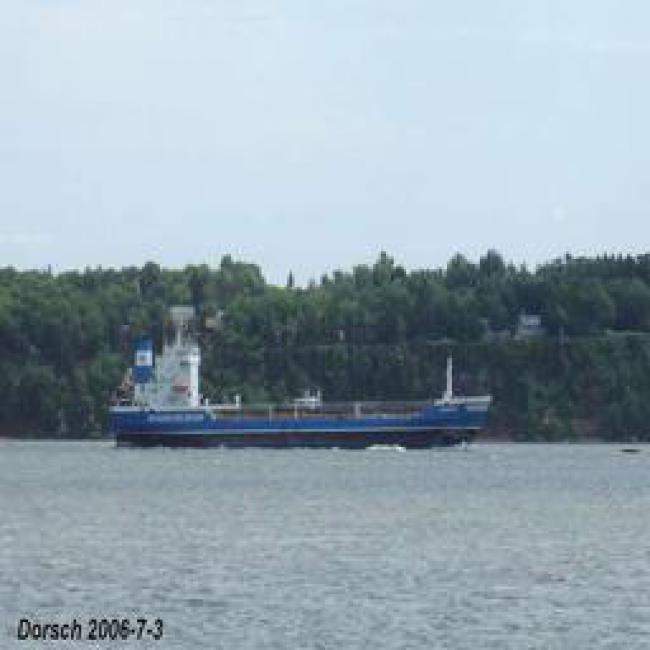Ship: (109, 321, 498, 448)
